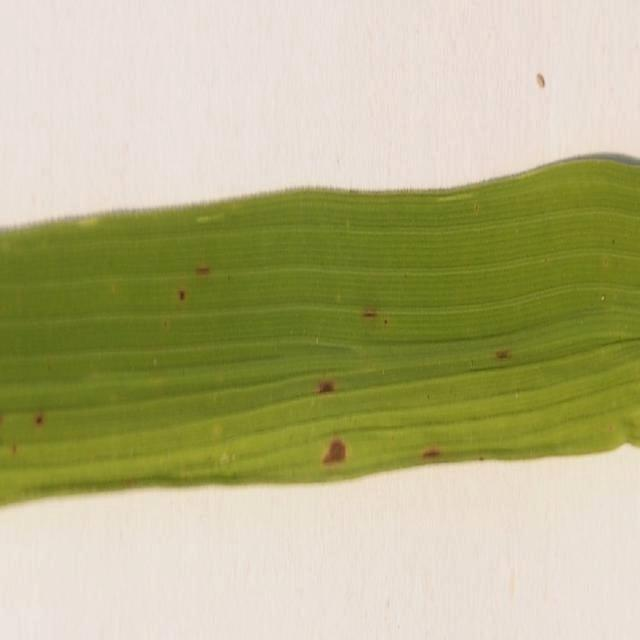Brownspot: (323, 438, 345, 463), (316, 380, 334, 393), (422, 447, 440, 458), (495, 349, 511, 361), (34, 412, 44, 427), (195, 265, 210, 275), (362, 307, 377, 317), (178, 288, 185, 300), (473, 202, 479, 214), (163, 319, 170, 329), (11, 443, 16, 455), (607, 424, 613, 432), (478, 456, 485, 461), (384, 318, 388, 326), (0, 414, 3, 424)
